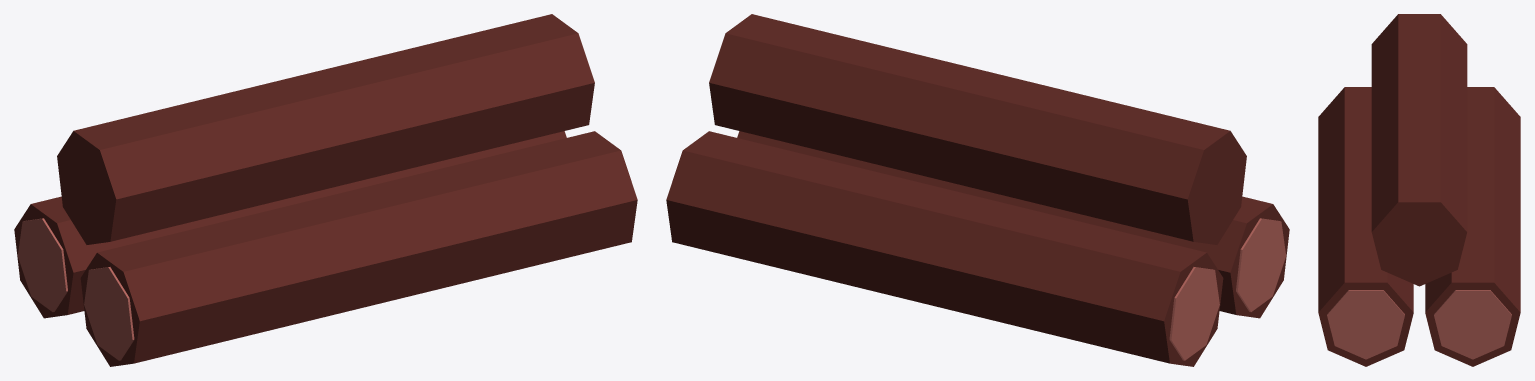
The model's file is drop_logs_mahogany.glb.
The picture shows the model from 3 angles, left to right: view 1: azimuth 30°, elevation 25°; view 2: azimuth 150°, elevation 25°; view 3: azimuth 270°, elevation 25°; orthographic projection. The views are drawn at different scales.
Parts seen in each view (by area): view 1: drop_logs_mahogany; view 2: drop_logs_mahogany; view 3: drop_logs_mahogany.
Part boxes in pixels (bbox=[...]): drop_logs_mahogany: bbox=[14, 14, 637, 366]; drop_logs_mahogany: bbox=[666, 14, 1289, 366]; drop_logs_mahogany: bbox=[1318, 14, 1520, 366].
Bounding box in the file's own units: 0.524 × 0.1996 × 0.2272.
